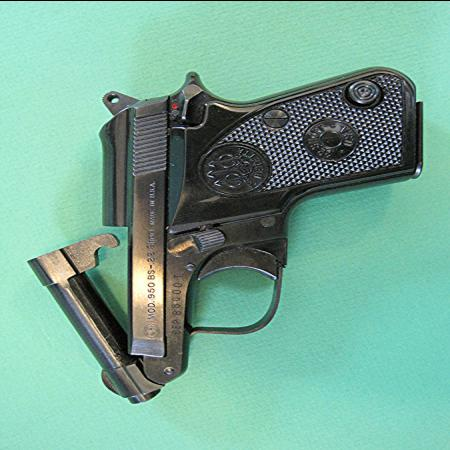Pistol: (25, 63, 428, 403)
